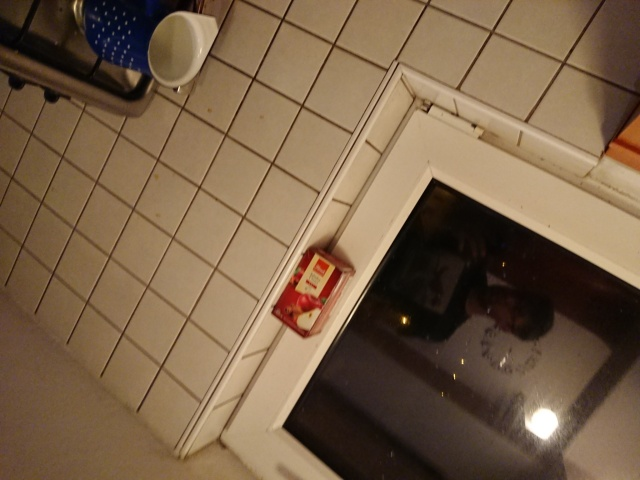Franck Apple Cinnamon Tea 60g: (268, 243, 358, 341)
